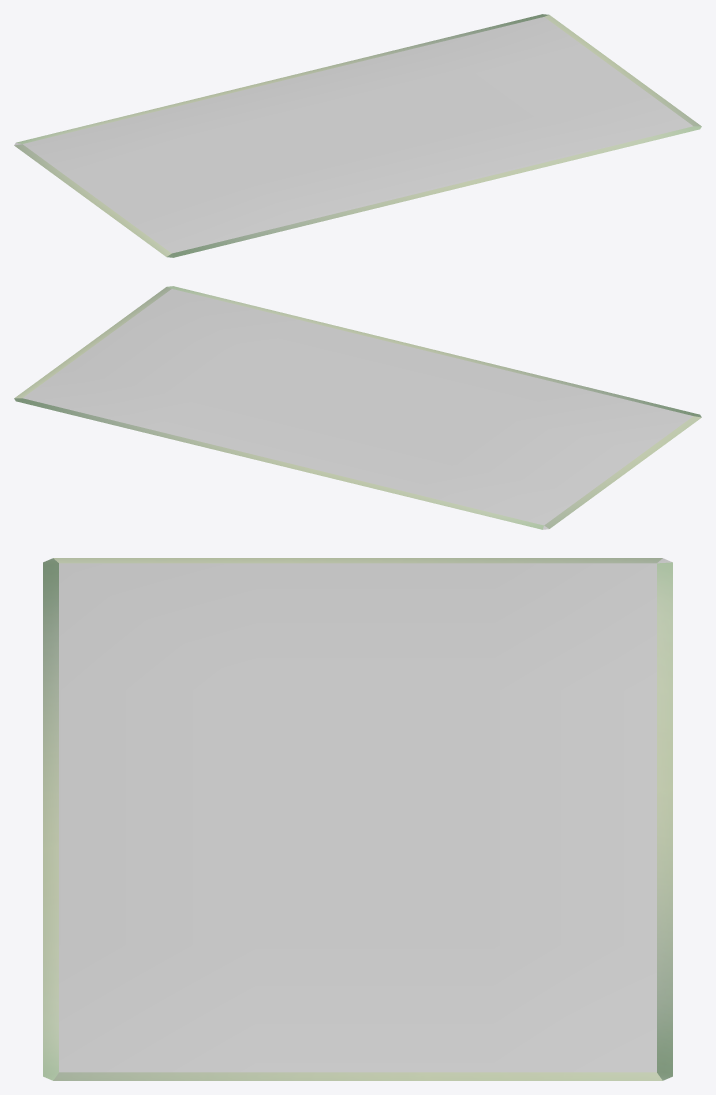
The model's file is prop_carpet01b.fbx.
The picture shows the model from 3 angles, top to bottom: view 1: azimuth 30°, elevation 25°; view 2: azimuth 150°, elevation 25°; view 3: azimuth 270°, elevation 25°; orthographic projection. The views are drawn at different scales.
Visible parts, largest first — view 1: prop_carpet01b; view 2: prop_carpet01b; view 3: prop_carpet01b.
Boxes of the visible parts, box(x1,y1,x2,y2) form: prop_carpet01b: box(14, 14, 701, 257); prop_carpet01b: box(14, 286, 701, 529); prop_carpet01b: box(43, 558, 672, 1080).
Size of the model in its own units: 1.03 by 0.00292 by 0.5221.
